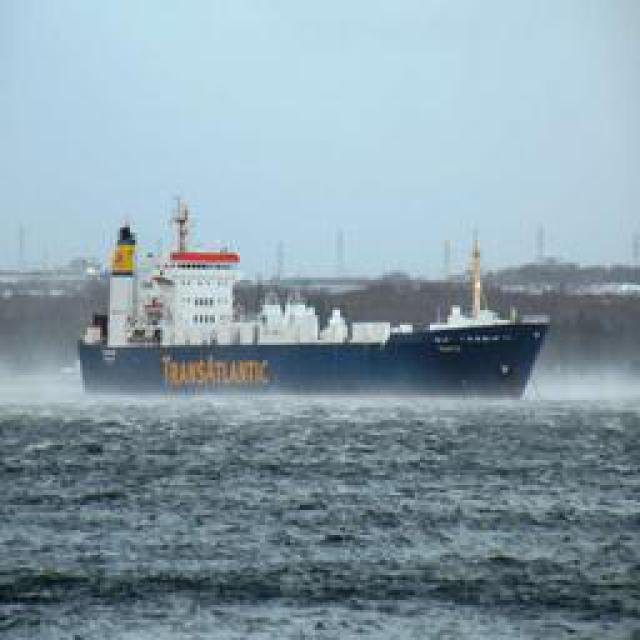Ship: (70, 225, 558, 403)
